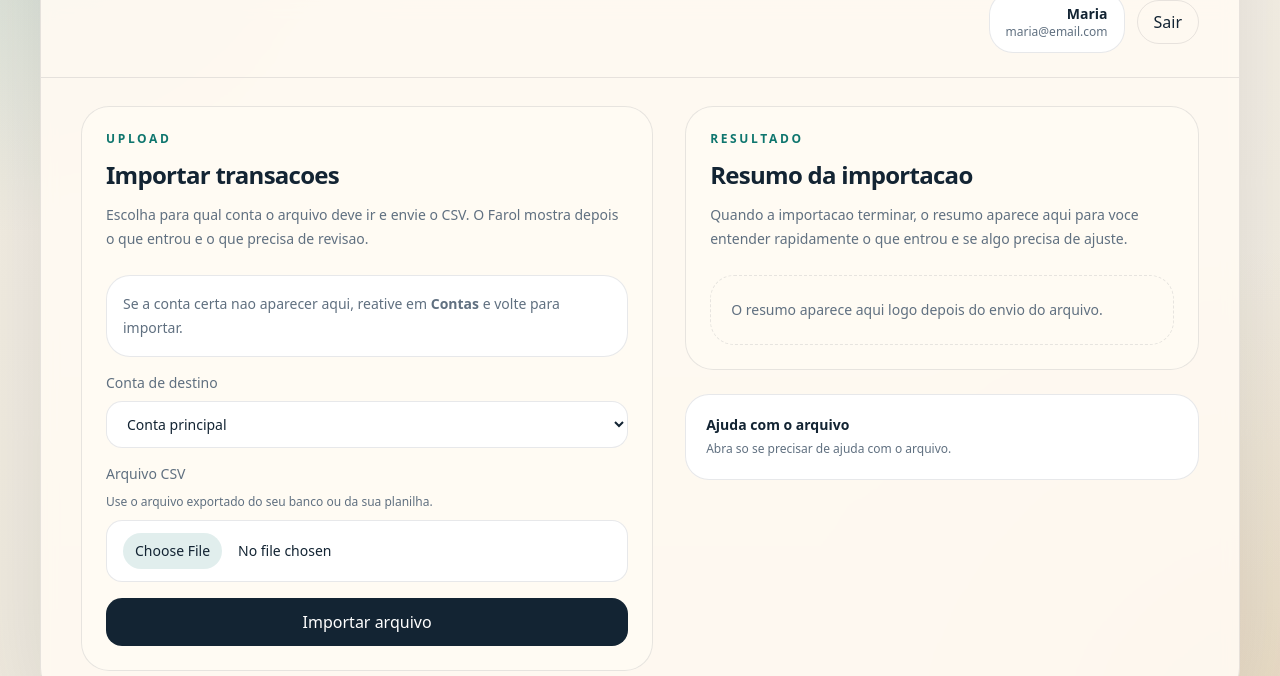
Test: ImportsPage › Imports_SubmitWithoutFile_ShowsFriendlyValidation
This screenshot has width=1280, height=676.
(page scrolled)
Click the button "Importar arquivo". click: (367, 622)
box: [106,598,628,646]
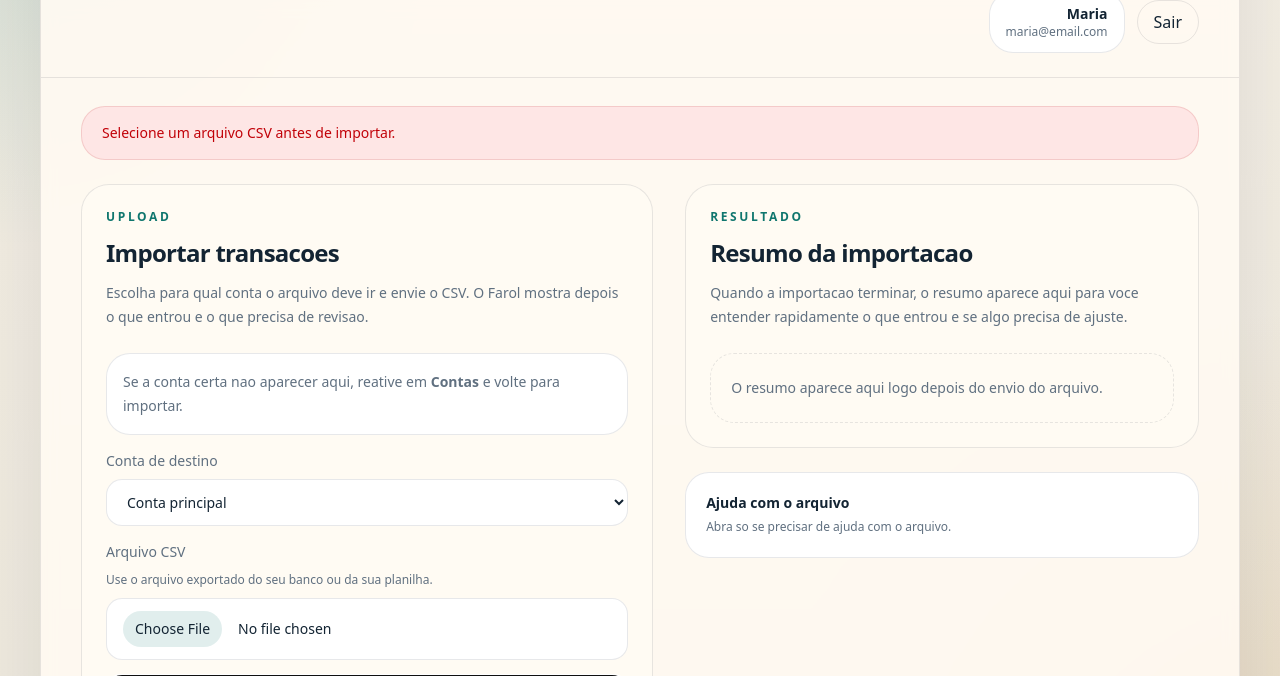
Expected: the text "Selecione um arquivo CSV antes de importar." is shown, [81,106,1199,160]
